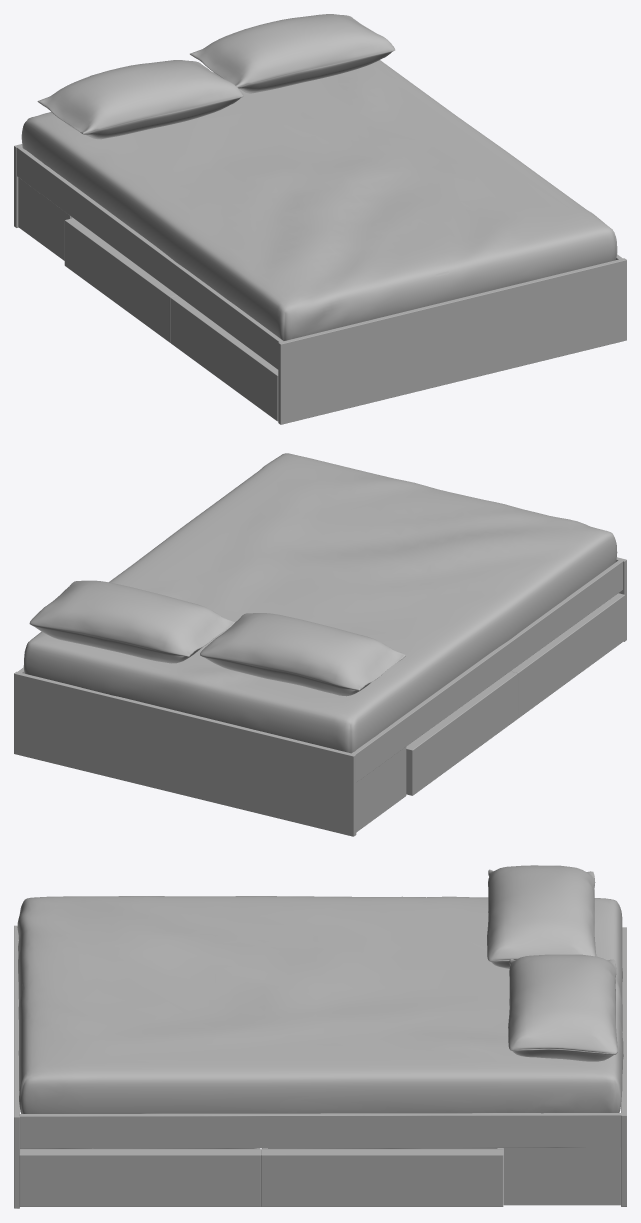
Rendered from abo-B01M0ZVGCQ.glb.
The picture shows the model from 3 angles, top to bottom: view 1: azimuth 30°, elevation 25°; view 2: azimuth 150°, elevation 25°; view 3: azimuth 270°, elevation 25°; orthographic projection. The views are drawn at different scales.
Bounding box in the file's own units: 1.45 × 0.6291 × 1.95.
Materials: 1 (1 with a texture image).
